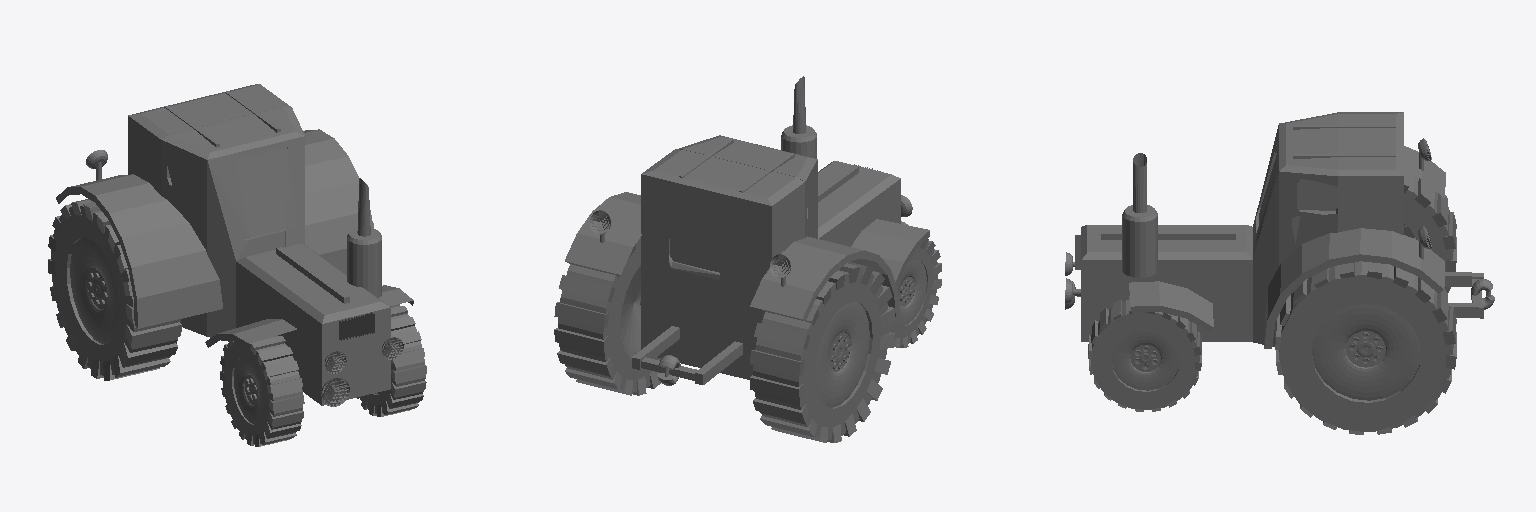
Rendered from Tractor004.obj.
The picture shows the model from 3 angles: view 1: azimuth 30°, elevation 25°; view 2: azimuth 150°, elevation 25°; view 3: azimuth 270°, elevation 25°; orthographic projection.
Parts seen in each view (by area): view 1: polySurface204, polySurface85, polySurface203, pCube14; view 2: polySurface204, polySurface85, polySurface203, pCube14; view 3: polySurface204, polySurface85, polySurface203, pCube14.
Boxes of the visible parts, <box> form: polySurface204: <box>56,84,413,405</box>; polySurface85: <box>48,199,426,446</box>; polySurface203: <box>70,150,403,423</box>; pCube14: <box>236,147,287,237</box>; polySurface204: <box>565,135,929,379</box>; polySurface85: <box>554,237,941,442</box>; polySurface203: <box>590,76,926,407</box>; pCube14: <box>669,191,719,272</box>; polySurface204: <box>1073,112,1445,348</box>; polySurface85: <box>1088,172,1456,434</box>; polySurface203: <box>1065,138,1494,400</box>; pCube14: <box>1259,155,1337,242</box>.
Bounding box in the file's own units: 9.18 × 8.38 × 13.62.